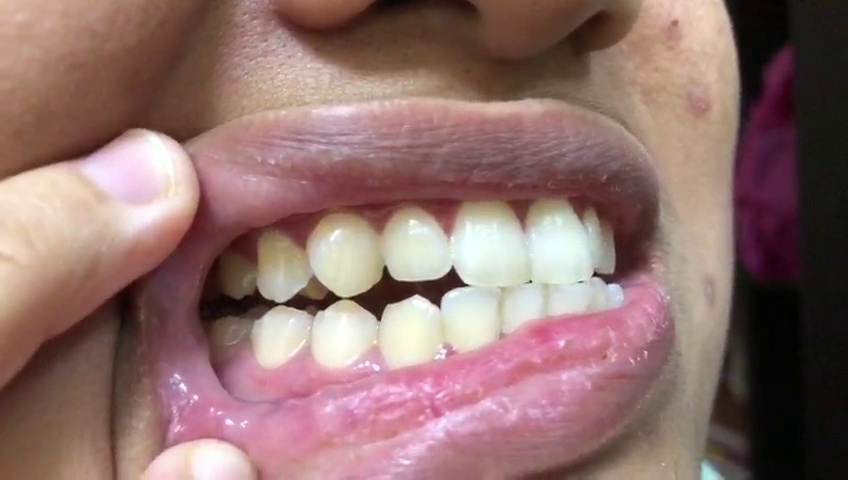1st Molar: (207, 314, 251, 363)
1st Premolar: (311, 297, 375, 369), (256, 222, 312, 303)
2nd Premolar: (251, 302, 311, 368), (222, 245, 255, 303)
Canine: (309, 211, 381, 297), (378, 293, 440, 374)
Central Incisor: (449, 197, 530, 285), (527, 193, 592, 284)
Lateral Incisor: (381, 202, 452, 280), (442, 282, 502, 354)
